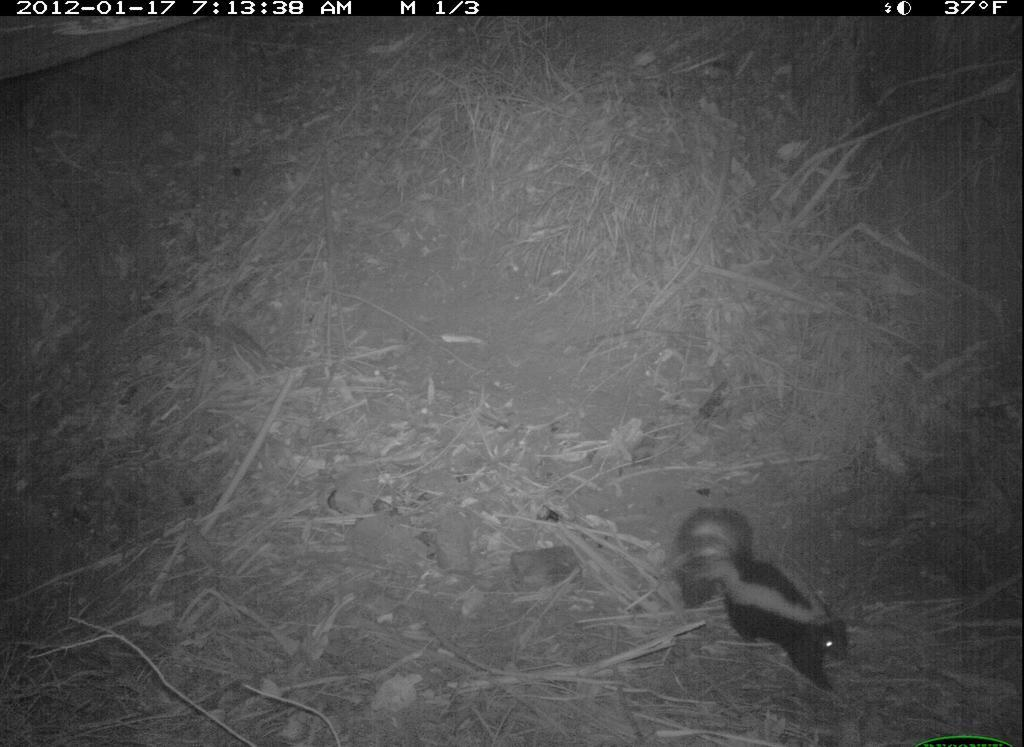skunk: (671, 500, 858, 694)
